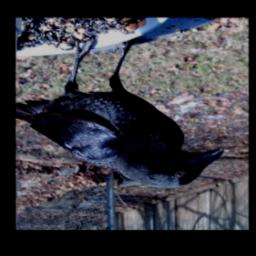Crow: (15, 36, 224, 189)
